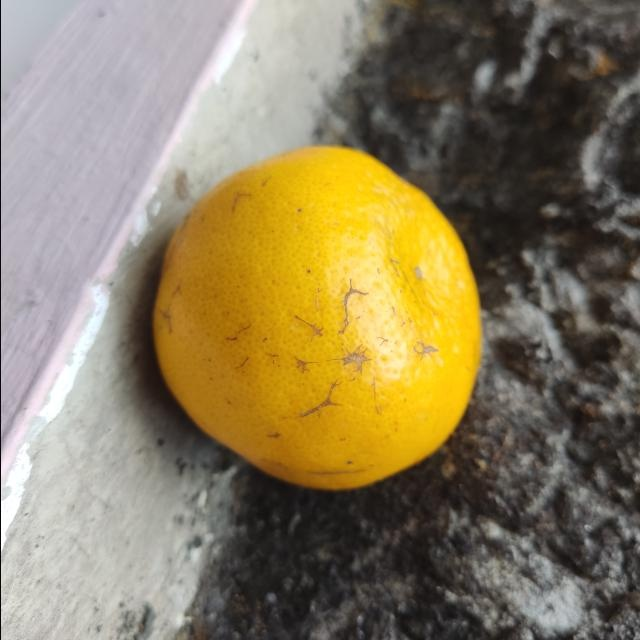agrume: (145, 141, 485, 491)
